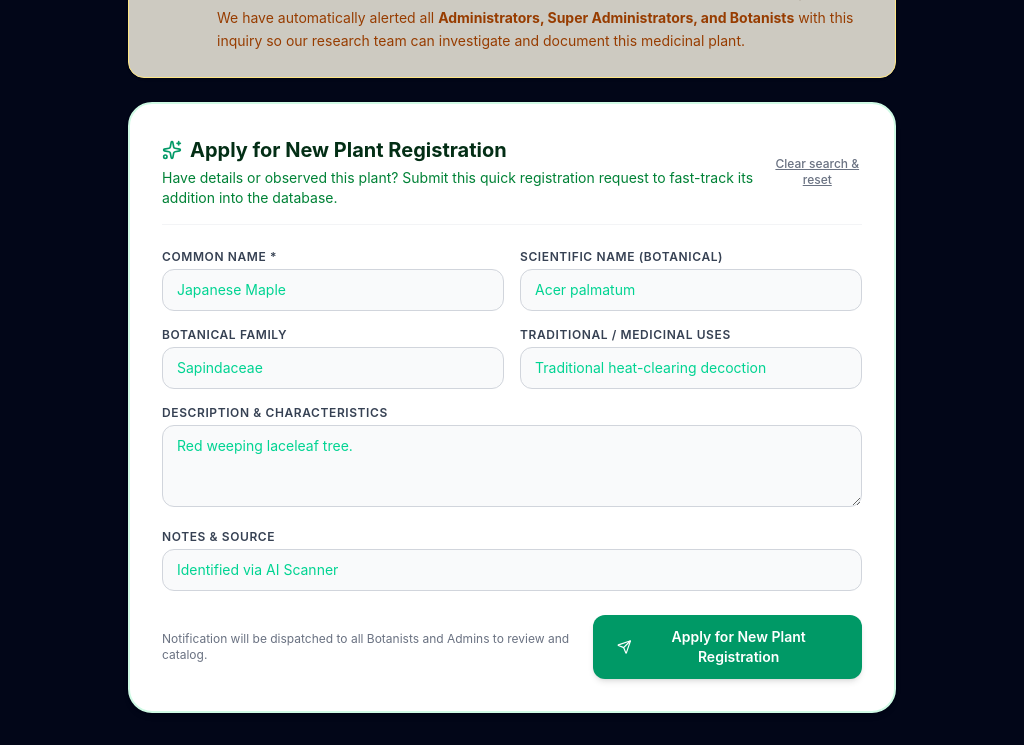
Test: EmptyResults Component & Missing Plant Registration Flow › submits registration request, shows thank you confirmation, and redirects to become-contributor with prefilled state
The width and height of the screenshot is (1024, 745).
Later steps or results of the test are not shown.
(page scrolled)
Expected: the field showing "Japanese Maple" below "Common Name *" is shown, [162,268,504,310]
Expected: the field showing "Acer palmatum" below "Scientific Name (Botanical)" is shown, [520,268,862,310]
Step 1. Click the button "Apply for New Plant Registration" → [727, 646], box [593,614,862,678]
(page scrolled)
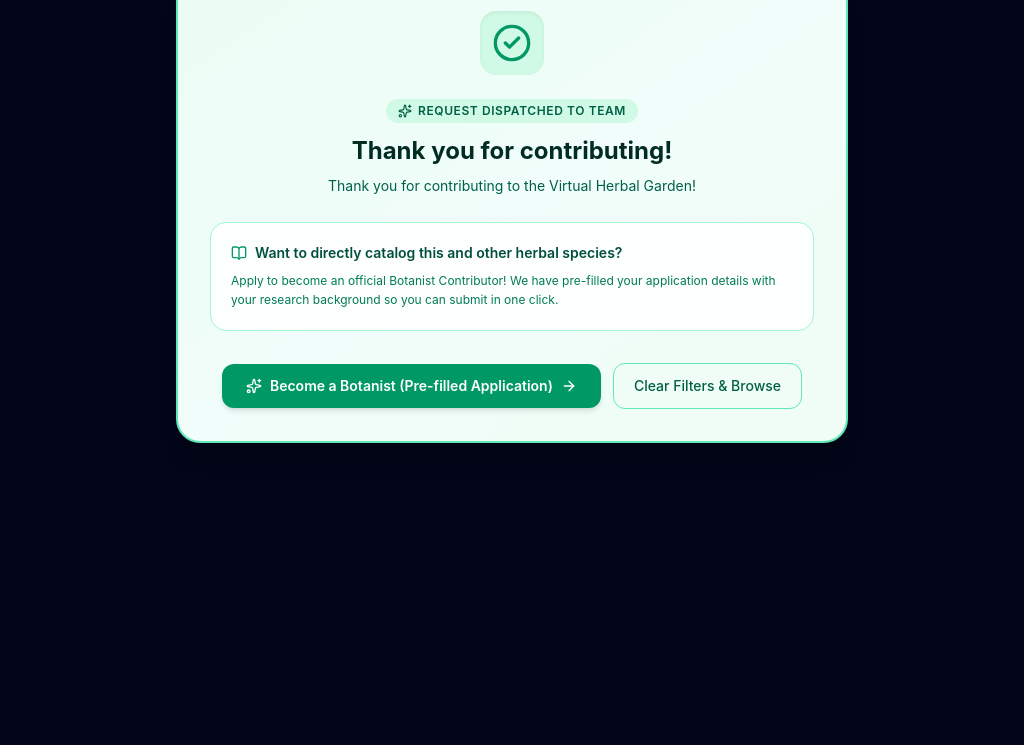
Expected: the heading "Thank you for contributing!" is shown, [352,136,672,165]
